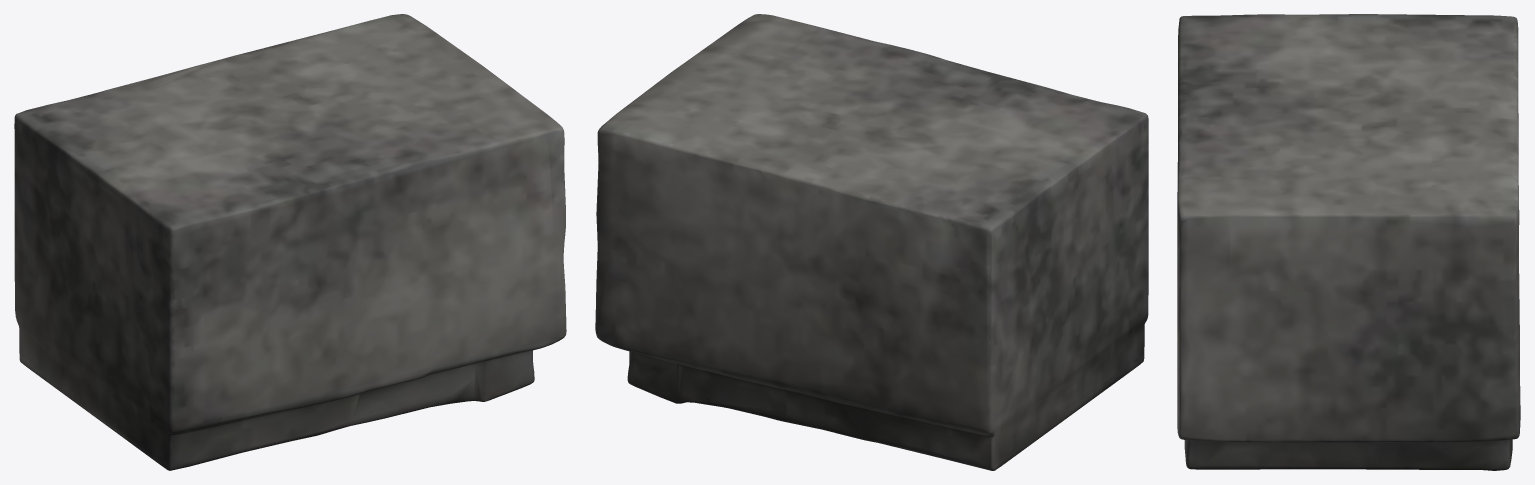
The model's file is sturdy-granite-steps-v001.glb.
3 views of the same model, side by side, from view 1: azimuth 30°, elevation 25°; view 2: azimuth 150°, elevation 25°; view 3: azimuth 270°, elevation 25° (orthographic). The views are drawn at different scales.
Visible parts, largest first — view 1: sturdy-granite-steps; view 2: sturdy-granite-steps; view 3: sturdy-granite-steps.
Boxes of the visible parts, x1,y1,x2,y2 form: sturdy-granite-steps: (14, 14, 566, 470); sturdy-granite-steps: (595, 14, 1148, 470); sturdy-granite-steps: (1177, 14, 1520, 470).
Size of the model in its own units: 0.5081 by 0.32 by 0.356.
Materials: 1 (1 with a texture image).
